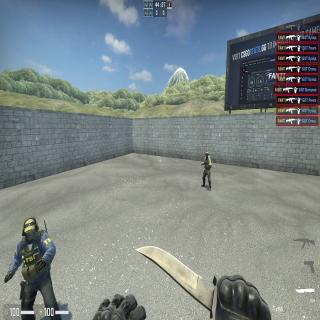CT-Body: (20, 218, 50, 320), (202, 152, 210, 188)
CT-Head: (24, 219, 36, 241), (205, 152, 209, 160)
